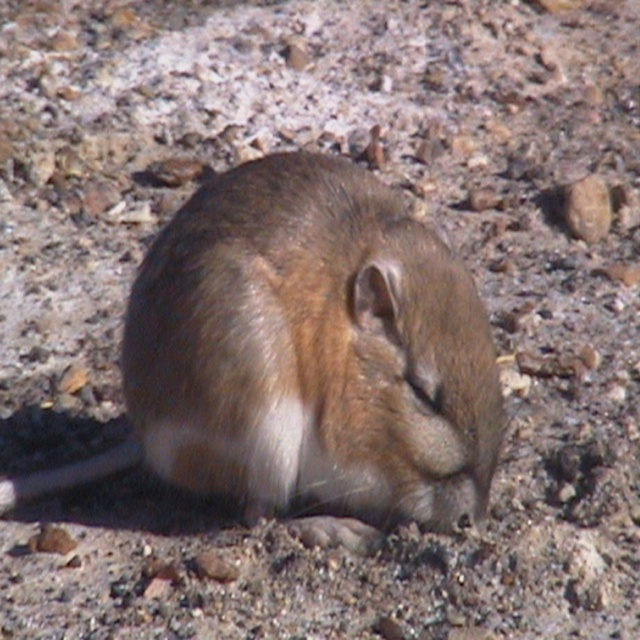Mouse: (0, 157, 523, 547)
